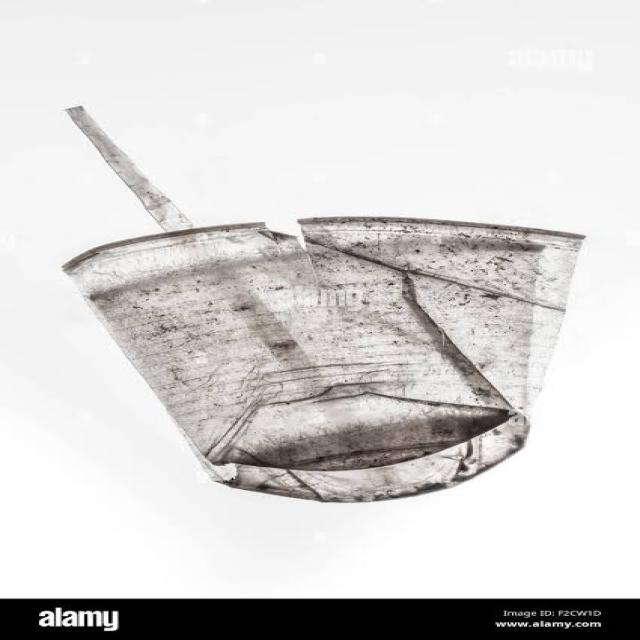residual: (48, 208, 600, 516)
